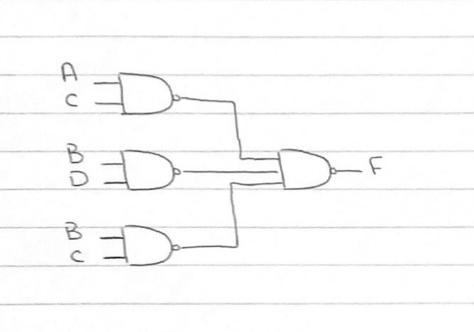NAND: (267, 137, 343, 198), (110, 60, 183, 122), (112, 141, 187, 201), (117, 216, 181, 274)
